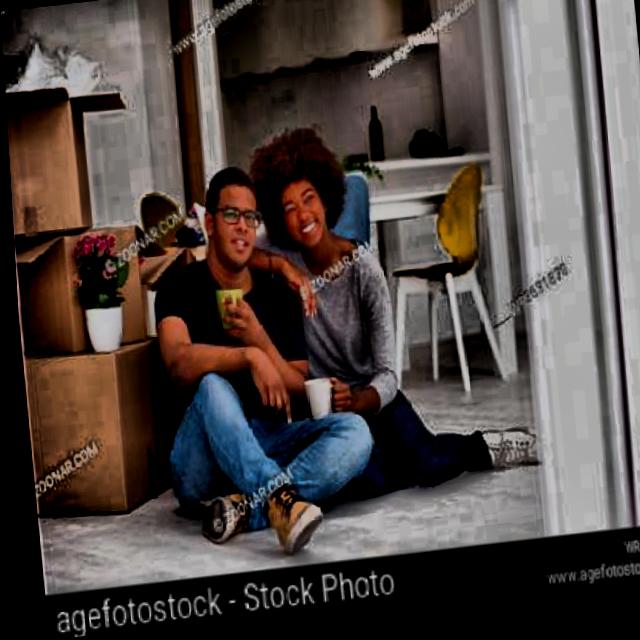Cardbox: (11, 219, 183, 523), (2, 45, 133, 237)
